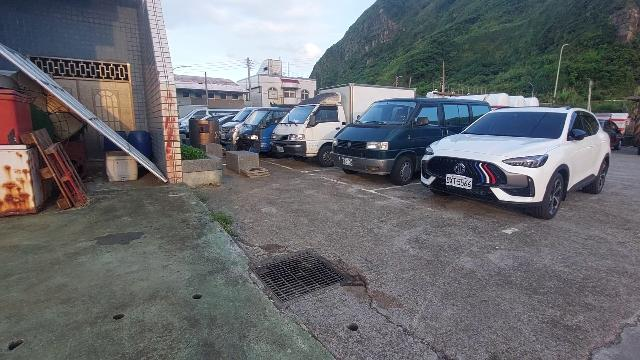pollute: (2, 71, 92, 219), (115, 129, 155, 164), (101, 150, 139, 181)
